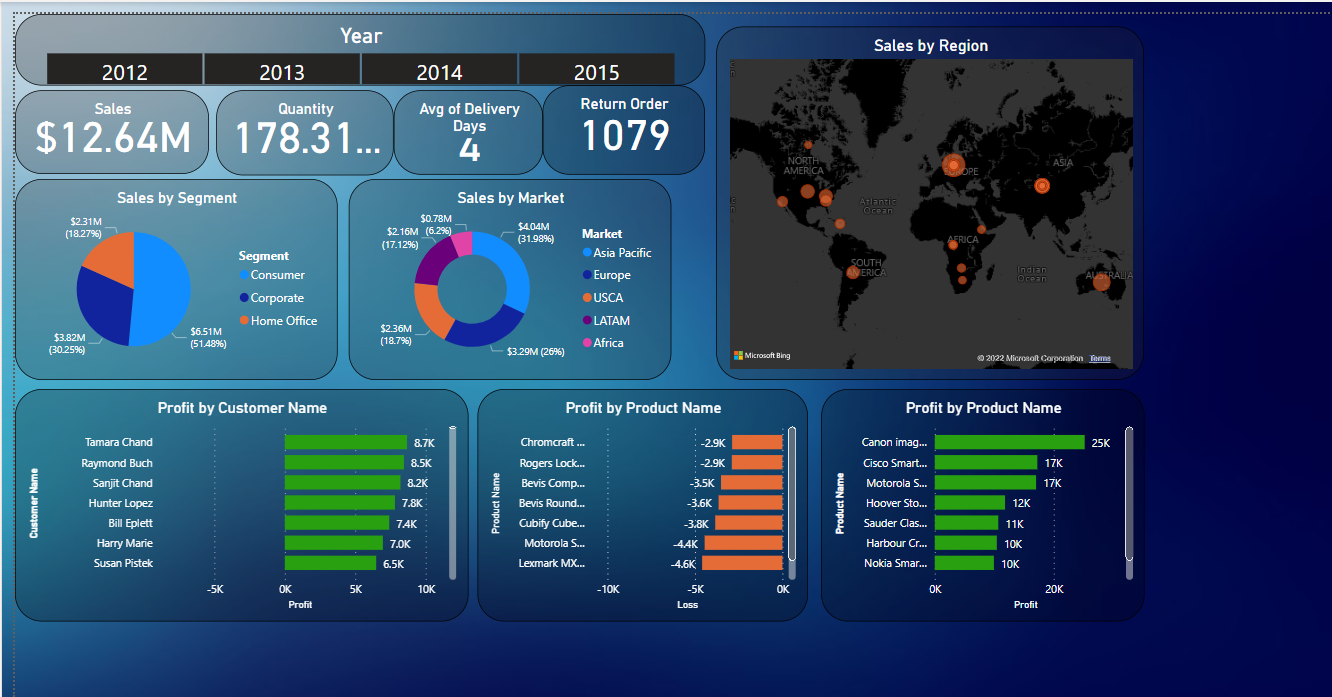

This screenshot's page, from the dashboard's own definition file:
{"tool":"powerbi","page":{"name":"Supermarket","canvas":[1500,1000],"ordinal":0},"visuals":[{"type":"card","title":"Sales","fields":{"Values":["Orders.Sales"]},"box":[0,85.2,217,93.4],"z":0},{"type":"card","title":"Quantity","fields":{"Values":["Orders.Quantity"]},"box":[224.7,84.8,198.6,95.1],"z":1000},{"type":"card","title":"Avg of Delivery Days","fields":{"Values":["Orders.Delivery Days"]},"box":[423,85.2,167.6,94.8],"z":2000},{"type":"slicer","title":"Year","fields":{"Values":["Orders.Year"]},"box":[0,0,771.8,79.7],"z":3000},{"type":"card","title":"Return Order","fields":{"Values":["Returns.Return Order"]},"box":[590.6,79.7,181.3,100.3],"z":4000},{"type":"map","fields":{"Category":["Orders.Region"],"Size":["Orders.Sales"]},"box":[784.4,14.2,478.5,395.5],"z":5000},{"type":"clusteredBarChart","fields":{"Category":["Orders.Product Name"],"Y":["Orders.Profit"]},"box":[901.3,419.5,361.6,260],"z":6000},{"type":"clusteredBarChart","fields":{"Category":["Orders.Product Name"],"Y":["Orders.Profit"]},"box":[516.8,419.5,369.3,260],"z":7000},{"type":"pieChart","fields":{"Category":["Orders.Segment"],"Y":["Orders.Sales"]},"box":[0,184.6,360.5,225.1],"z":8000},{"type":"donutChart","fields":{"Y":["Orders.Sales"],"Category":["Orders.Market"]},"box":[373.6,184.6,360.5,225.1],"z":9000},{"type":"clusteredBarChart","fields":{"Y":["Orders.Profit"],"Category":["Orders.Customer Name"]},"box":[0,419.5,506.9,260],"z":10000}]}

Visuals, with their boxes on the page's 1500x1000 design canvas (x1, y1, x2, y2). These are canvas units, not pixel positions in the 1332x697 screenshot, which may show the page scaled, cropped or inside an application window:
"Sales" card: (x1=0, y1=85, x2=217, y2=179)
"Quantity" card: (x1=225, y1=85, x2=423, y2=180)
"Avg of Delivery Days" card: (x1=423, y1=85, x2=591, y2=180)
"Year" slicer: (x1=0, y1=0, x2=772, y2=80)
"Return Order" card: (x1=591, y1=80, x2=772, y2=180)
map - Orders.Region x Orders.Sales: (x1=784, y1=14, x2=1263, y2=410)
clusteredBarChart - Orders.Product Name x Orders.Profit: (x1=901, y1=420, x2=1263, y2=680)
clusteredBarChart - Orders.Product Name x Orders.Profit: (x1=517, y1=420, x2=886, y2=680)
pieChart - Orders.Segment x Orders.Sales: (x1=0, y1=185, x2=360, y2=410)
donutChart - Orders.Sales x Orders.Market: (x1=374, y1=185, x2=734, y2=410)
clusteredBarChart - Orders.Profit x Orders.Customer Name: (x1=0, y1=420, x2=507, y2=680)
